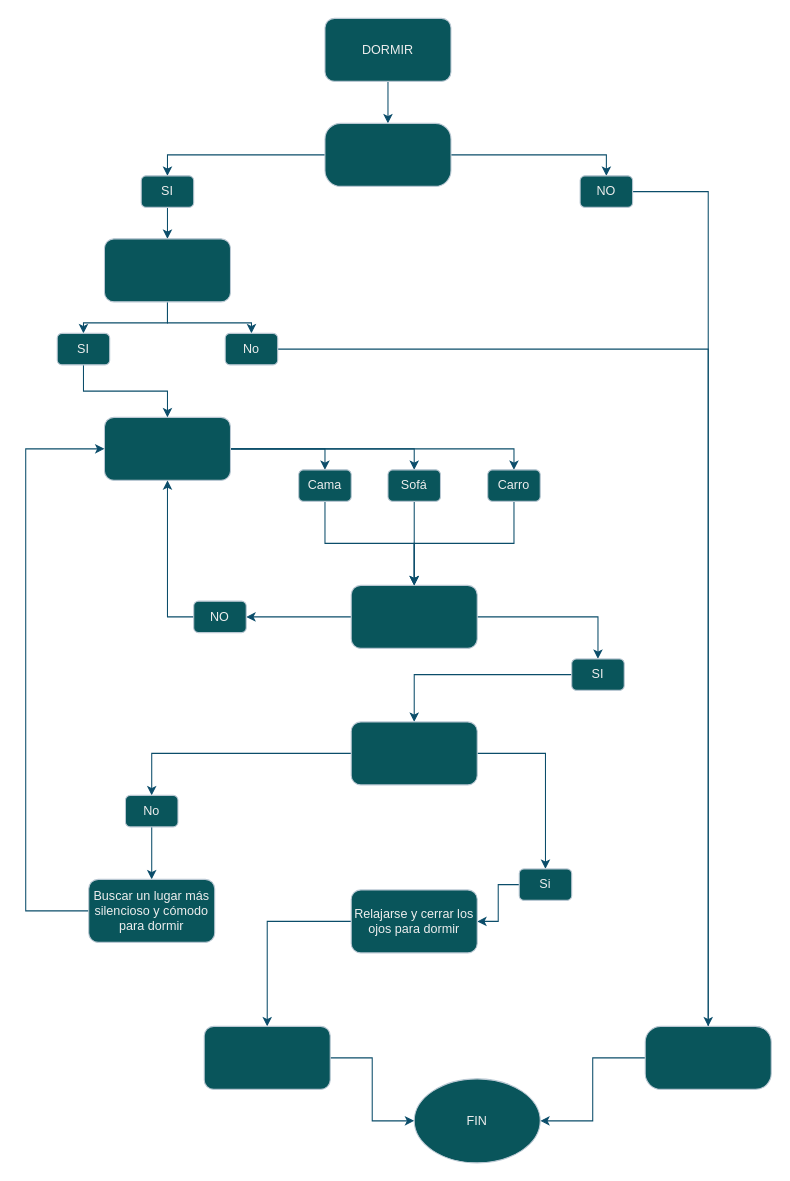
Some shapes in this 790 by 1181 pixel diagram are drawn without their labels. The centre of each missing label's shape, as x and y in pixels:
"No dormir" goes at pixel 707 1057.
"Quedarse dormido" goes at pixel 266 1057.
"¿En donde puedo dormir?" goes at pixel 166 448.
"¿Es un lugar cómodo para dormir?" goes at pixel 413 616.
"¿Es un lugar silencioso para dormir?" goes at pixel 413 753.
"¿Puedo dormir?" goes at pixel 166 270.
"¿Tengo sueño?" goes at pixel 387 154.
